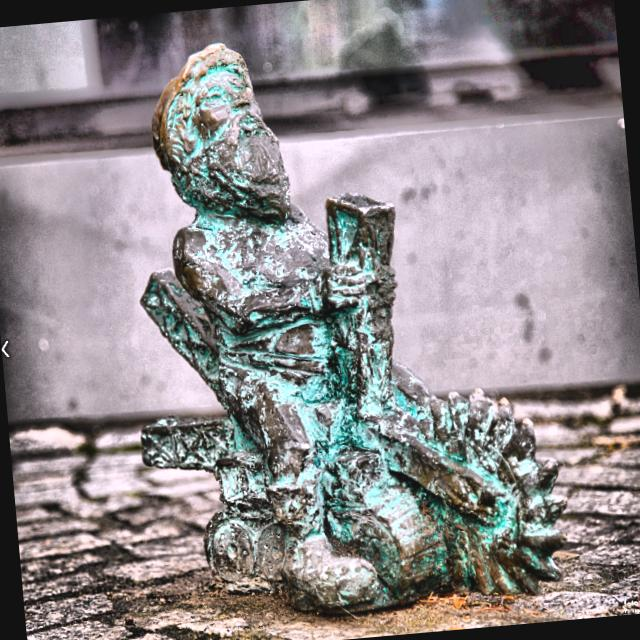Automatek: (141, 45, 565, 610)
